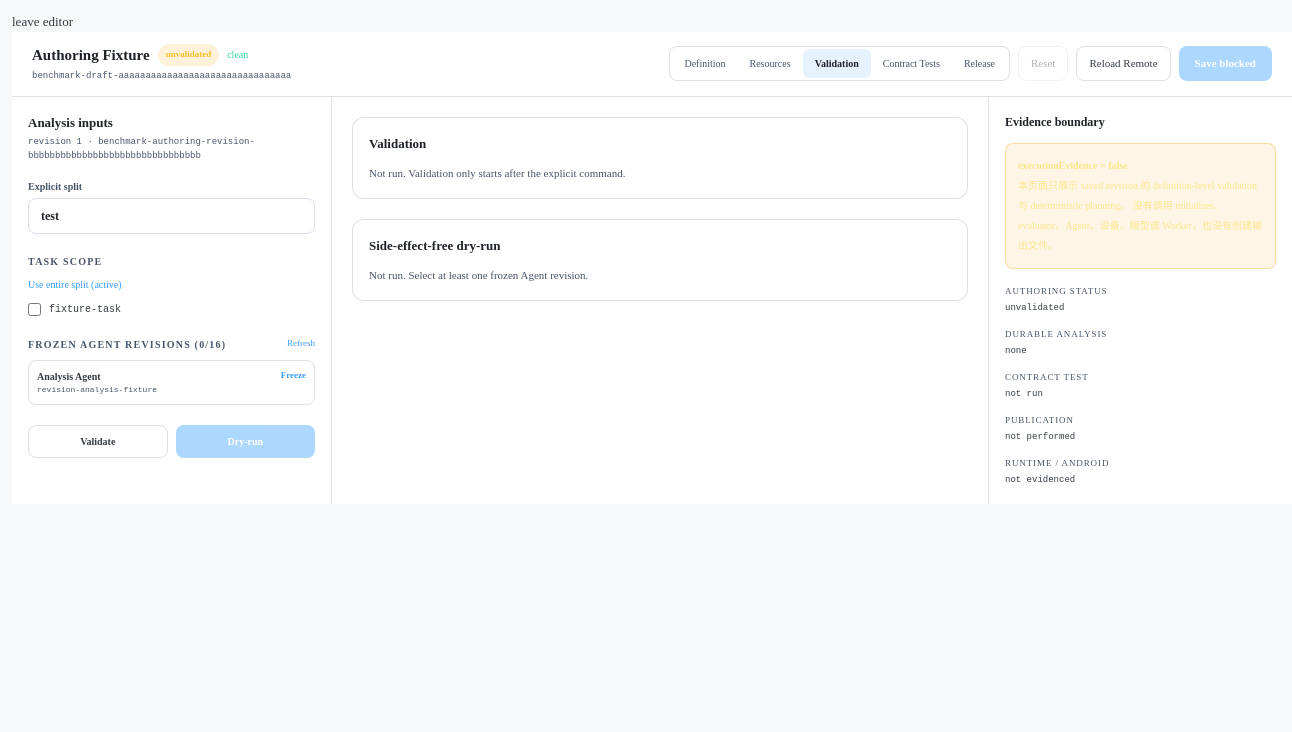
Scenario: Benchmark definition workbench › rebuilds transient validation inputs after an explicit Reload Remote
Replace the text in the field labelled "Explicit split" with "stale-local" at (172, 216), box [28, 198, 315, 234]
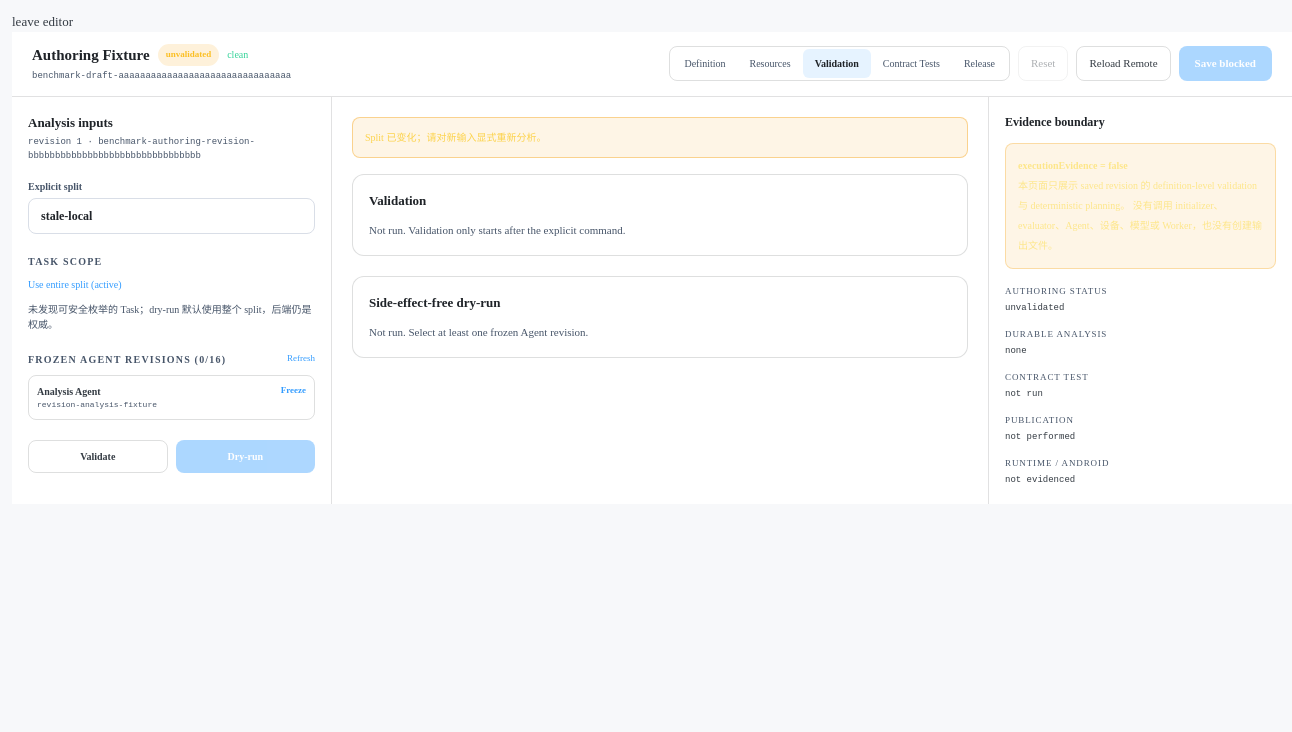
Click the button "Reload Remote" at (1123, 64), box [1076, 46, 1170, 81]
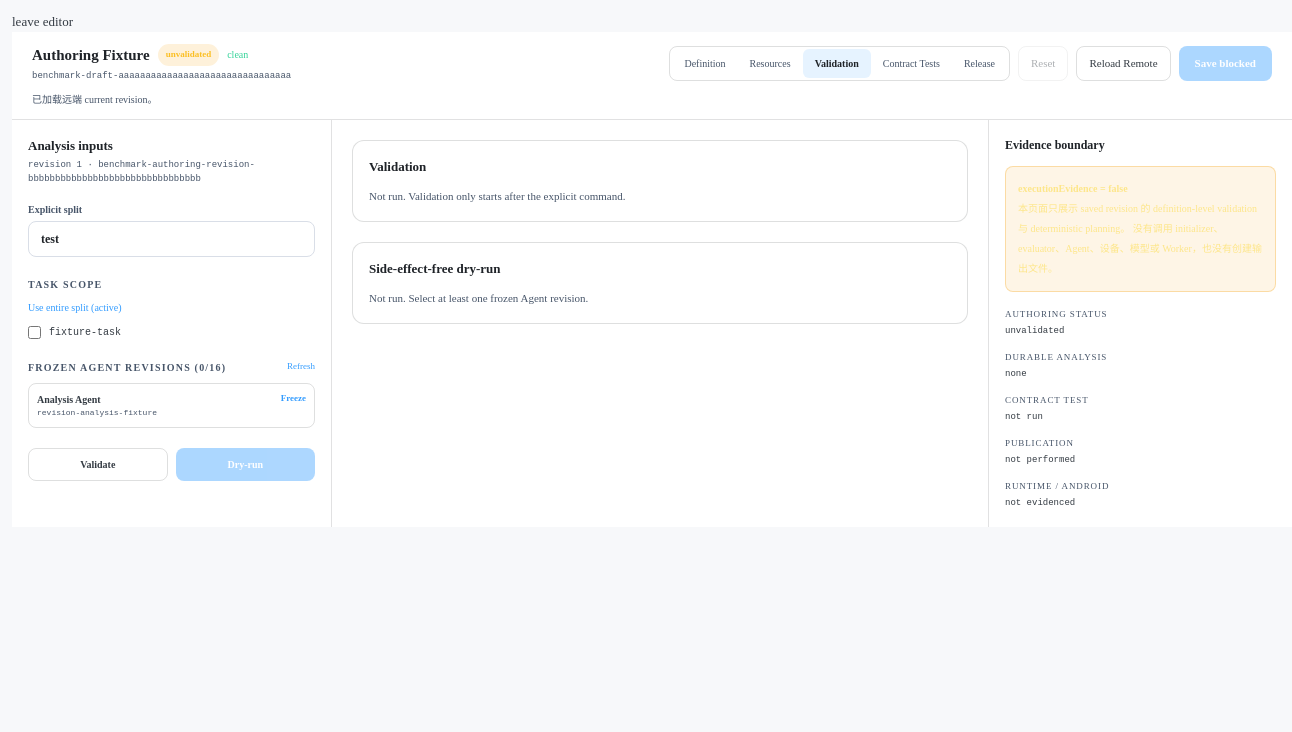
Expected: the text "Not run. Validation only starts after the explicit command." is shown, [369, 190, 625, 202]
Expected: the field labelled "Explicit split" holds "test", [28, 221, 315, 257]
